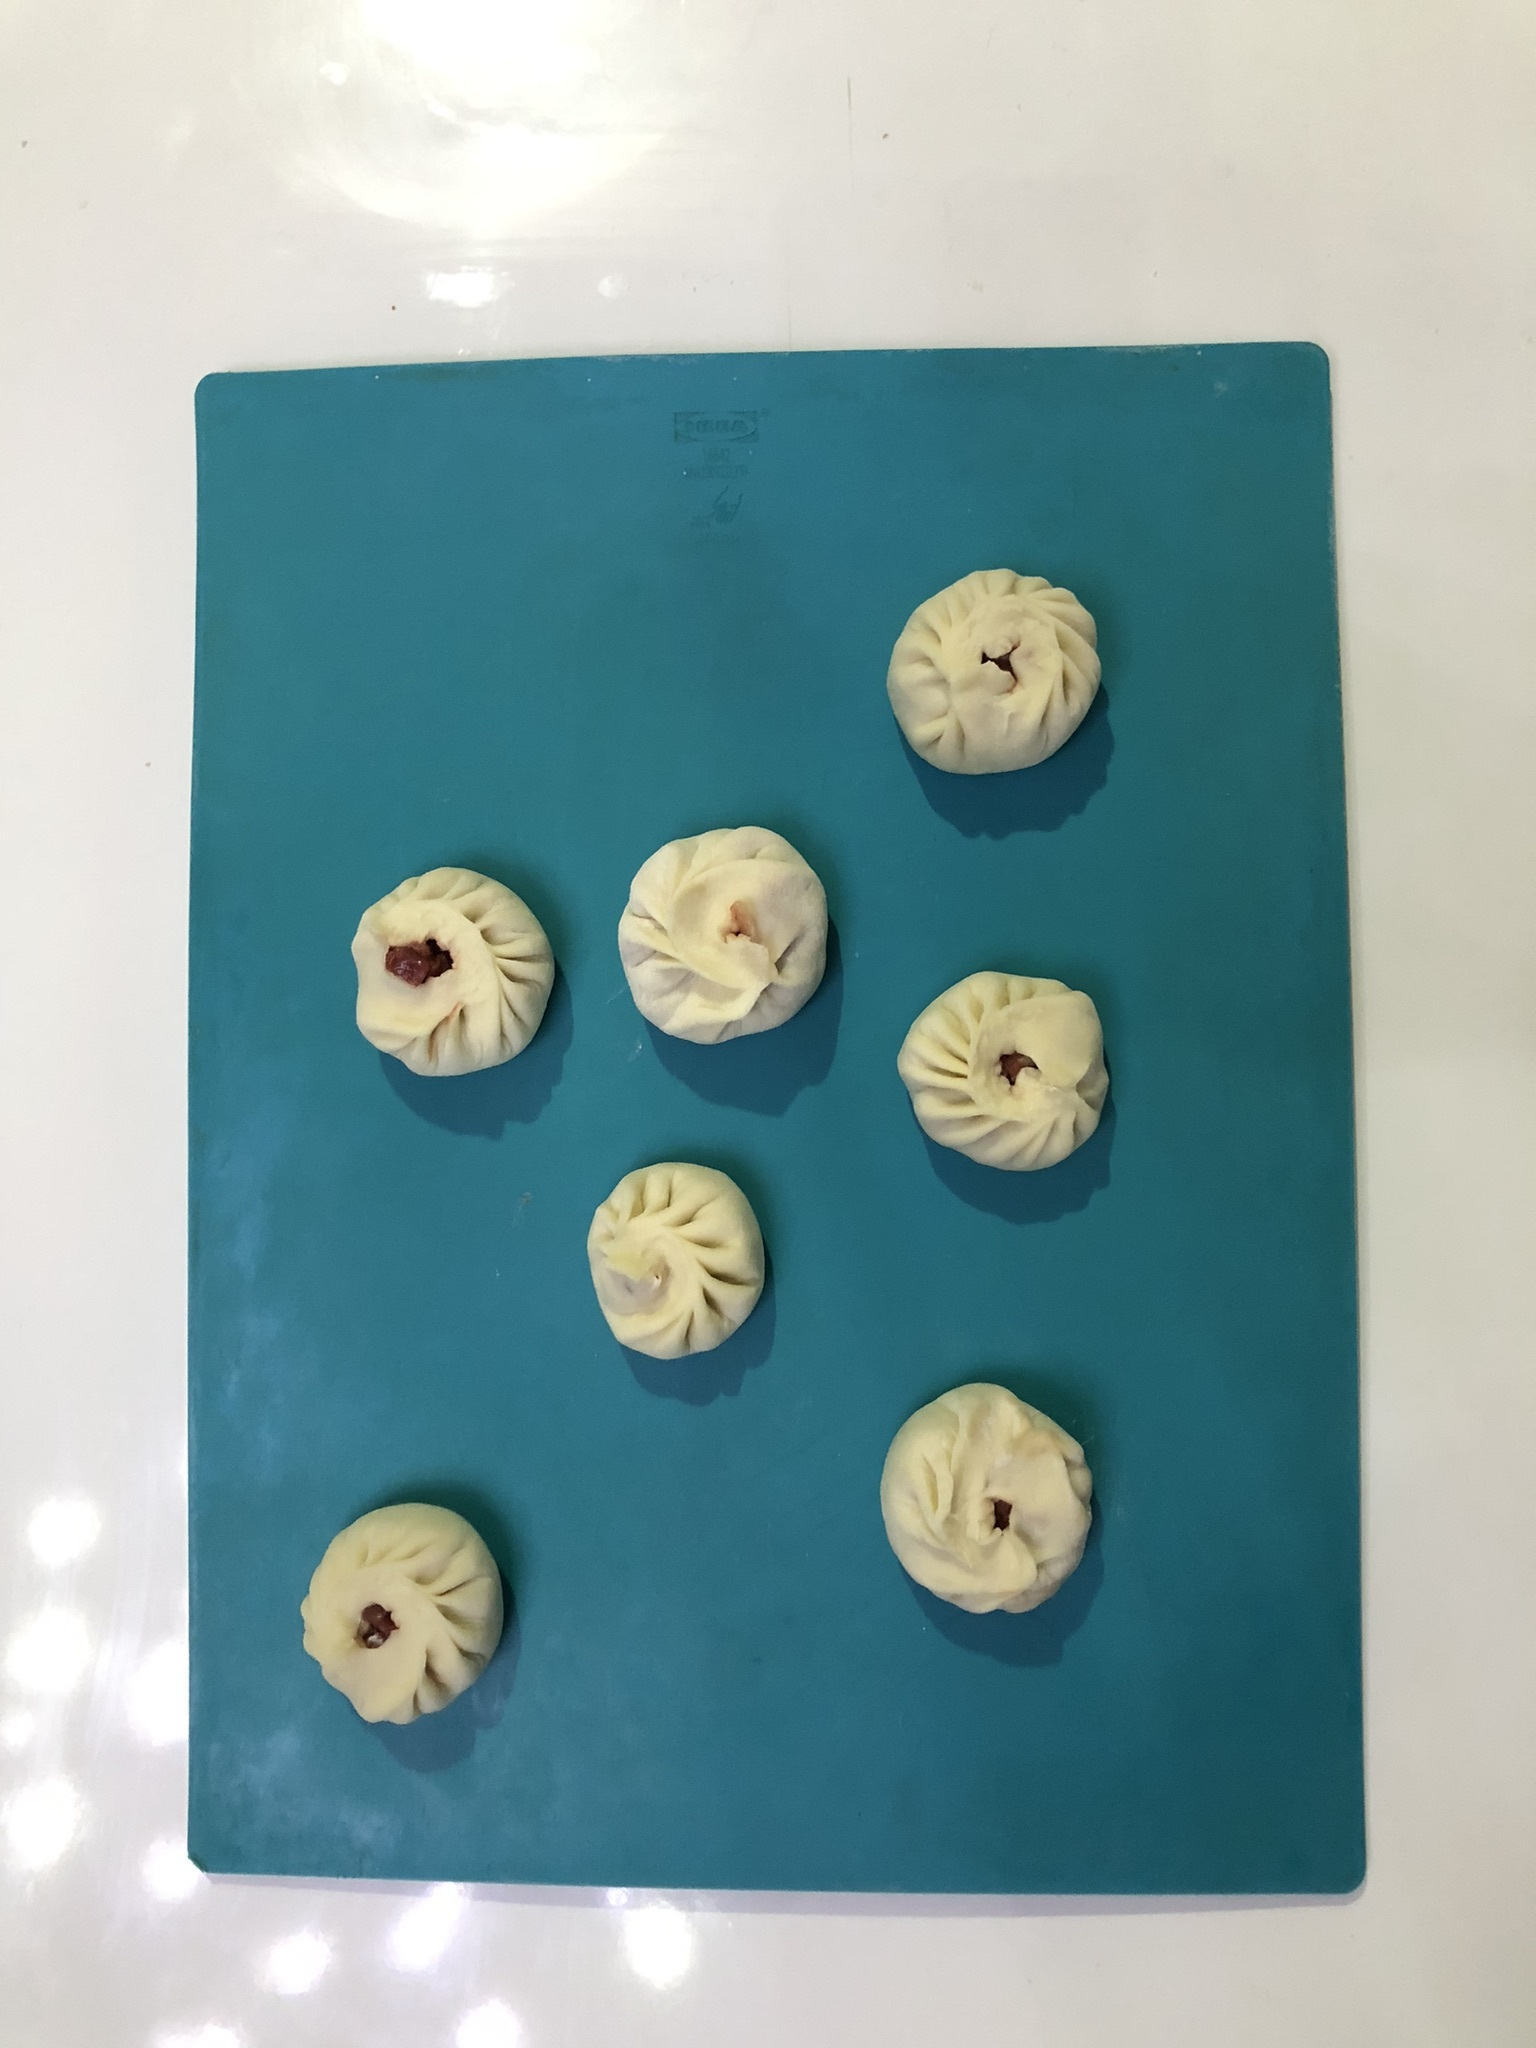buuz: (871, 1372, 1112, 1638), (607, 813, 842, 1063), (290, 1485, 524, 1737), (874, 561, 1117, 790), (879, 961, 1120, 1180), (340, 851, 561, 1080), (582, 1155, 778, 1371)
